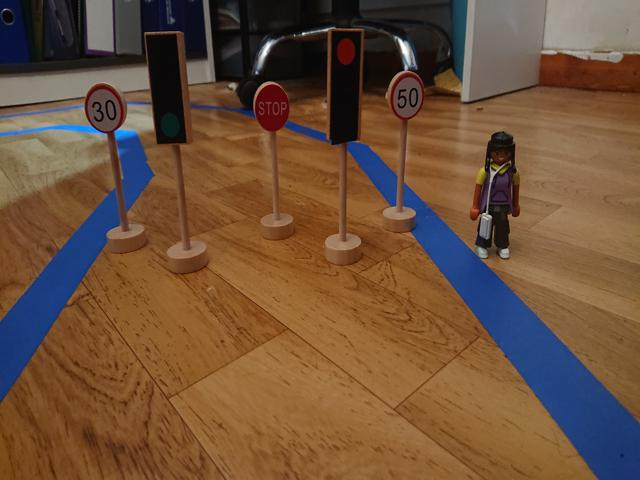30 speed sign: (80, 80, 128, 136)
50 speed sign: (390, 74, 426, 121)
green light: (145, 33, 189, 144)
red light: (331, 29, 361, 143)
stop sign: (253, 82, 292, 133)
